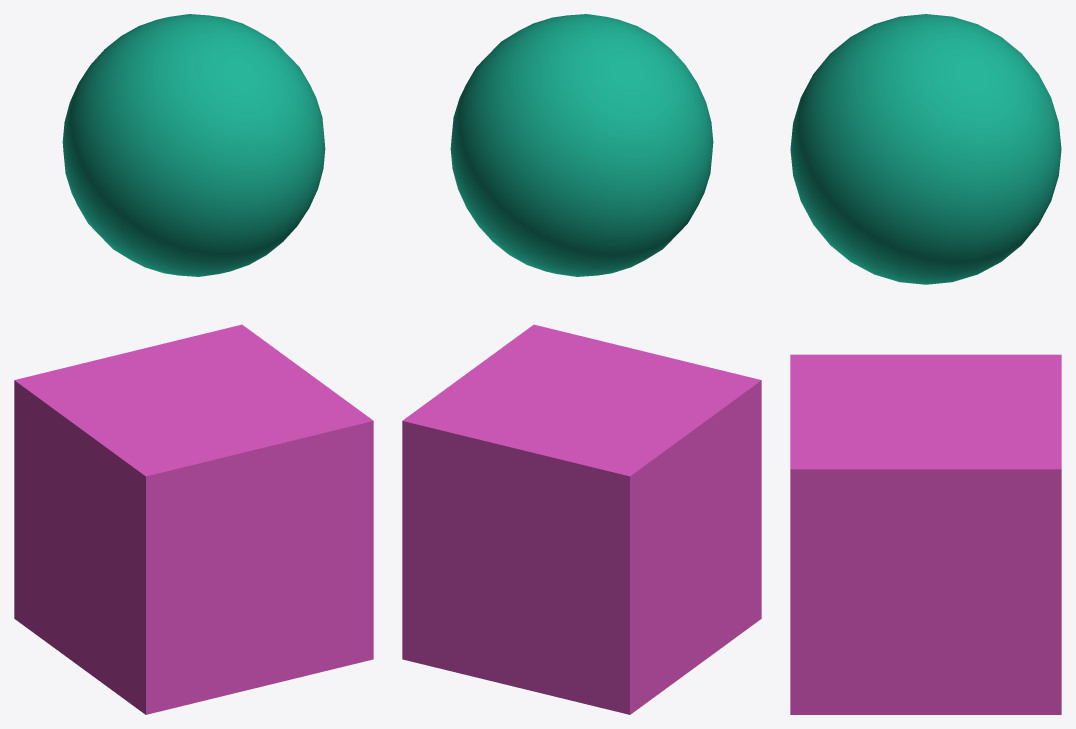
Rendered from ball_cube.obj.
The picture shows the model from 3 angles, left to right: view 1: azimuth 30°, elevation 25°; view 2: azimuth 150°, elevation 25°; view 3: azimuth 270°, elevation 25°; orthographic projection. The views are drawn at different scales.
Visible parts, largest first — view 1: Box001, Sphere001; view 2: Box001, Sphere001; view 3: Box001, Sphere001.
Boxes of the visible parts, x1,y1,x2,y2 form: Box001: [14, 324, 373, 714]; Sphere001: [62, 14, 325, 276]; Box001: [402, 324, 761, 714]; Sphere001: [450, 14, 713, 276]; Box001: [790, 354, 1061, 714]; Sphere001: [790, 14, 1061, 284].
Size of the model in its own units: 1 by 2.57 by 1.
